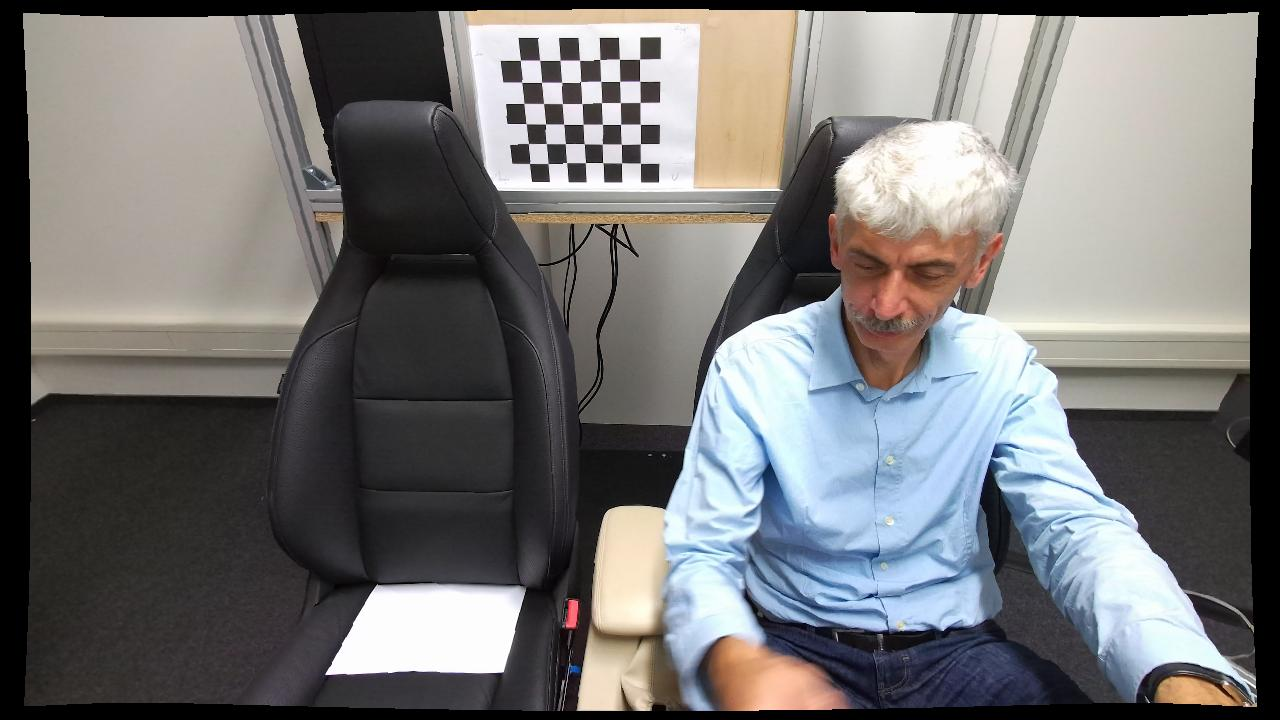Distracted: (656, 117, 1120, 715)
